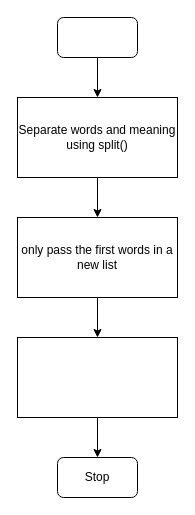
Image size: 195x515. Some labels were removed from this diagram. Here are the shapes that lost their labels. From the top down, the centre of each, then its label:
point 97,37: Start
point 97,377: use OrderedDict.fromkeys() to remove duplicated words
